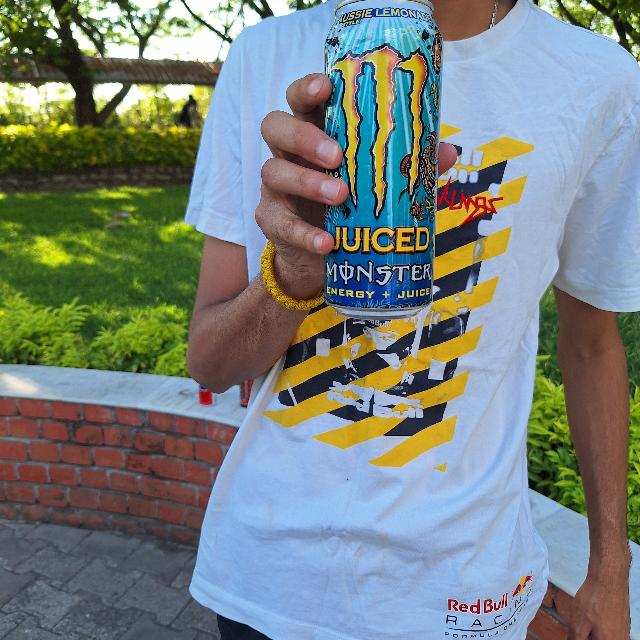Monster Aussie Lemonade: (322, 8, 438, 316)
